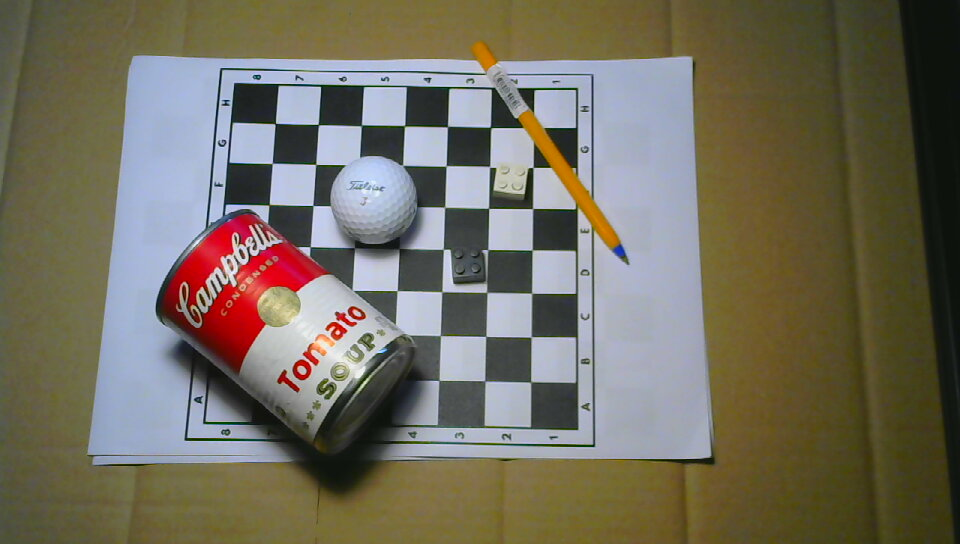bp: (448, 243, 486, 285)
wp: (491, 161, 529, 203)
